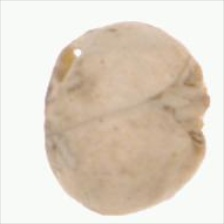L3: (157, 55, 211, 156)
L4: (44, 21, 211, 216)
